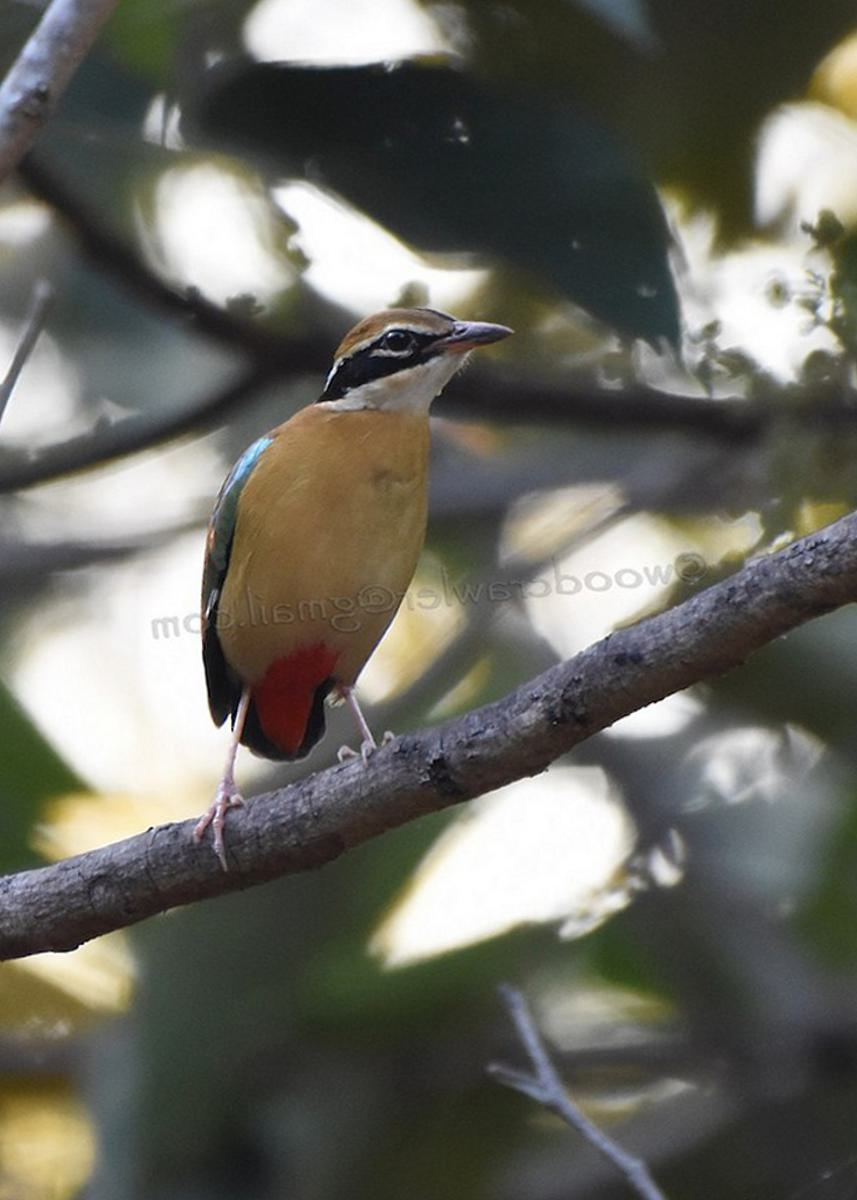pitta: (146, 264, 559, 791)
